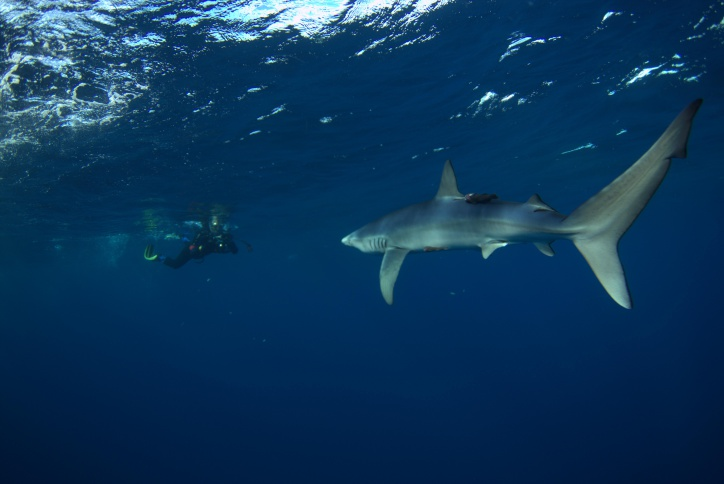Azul: (291, 100, 724, 292), (345, 233, 622, 373)
